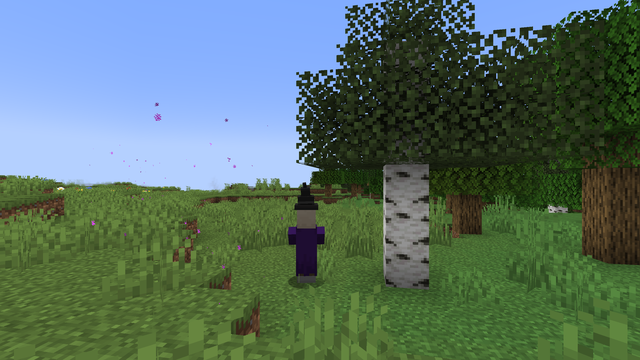sorcieres: (292, 204, 319, 286)
